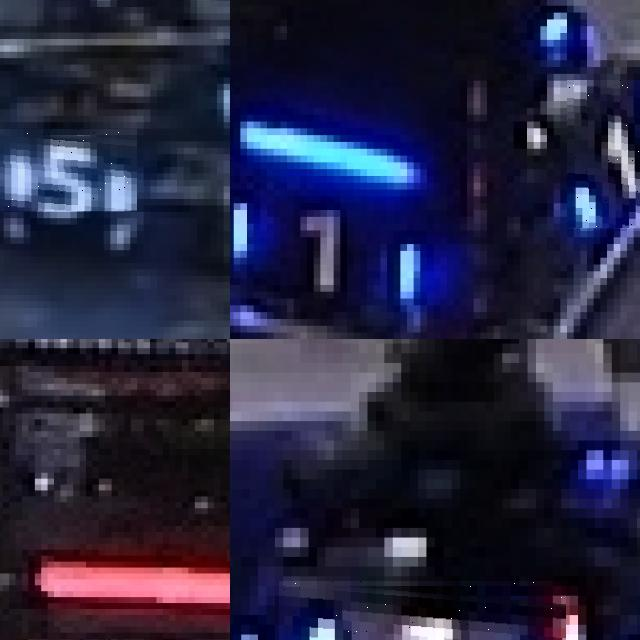B1: (230, 189, 420, 305), (279, 581, 565, 640), (567, 80, 640, 230)
B5: (0, 128, 137, 211)
